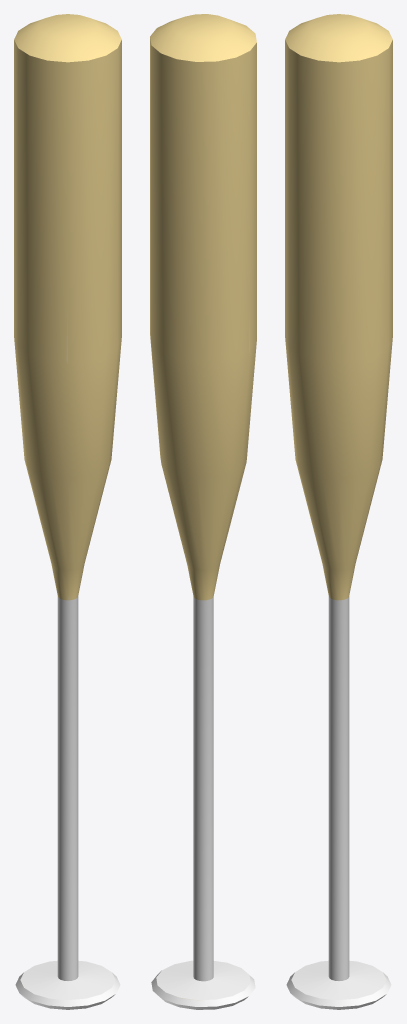
The model's file is Frother.fbx.
3 views of the same model, side by side, from view 1: azimuth 90°, elevation 25°; view 2: azimuth 150°, elevation 25°; view 3: azimuth 270°, elevation 25° (orthographic).
Parts seen in each view (by area): view 1: Milk_frother; view 2: Milk_frother; view 3: Milk_frother.
Boxes of the visible parts, <box> form: Milk_frother: <box>14,14,121,1009</box>; Milk_frother: <box>150,14,256,1009</box>; Milk_frother: <box>285,14,392,1009</box>.
Size of the model in its own units: 1.61 by 15.98 by 1.61.
1 material, 1 textured.
